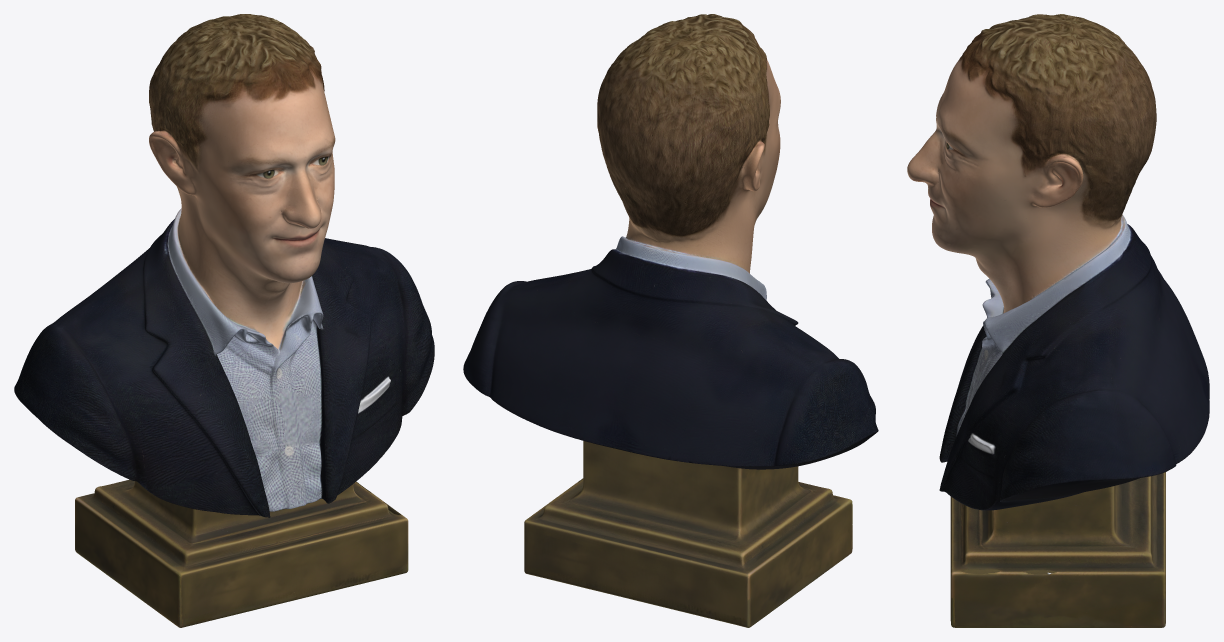
File: zuck.glb
3 renders of one model, left to right at view 1: azimuth 30°, elevation 25°; view 2: azimuth 150°, elevation 25°; view 3: azimuth 270°, elevation 25°, orthographic. The views are drawn at different scales.
Parts seen in each view (by area): view 1: Mesh_0.002; view 2: Mesh_0.002; view 3: Mesh_0.002.
Part boxes in pixels (x1,y1,x2,y2): Mesh_0.002: (14, 14, 434, 627); Mesh_0.002: (463, 14, 878, 627); Mesh_0.002: (907, 14, 1209, 627).
Size of the model in its own units: 1.51 by 2.01 by 1.
Materials: 1 (1 with a texture image).
